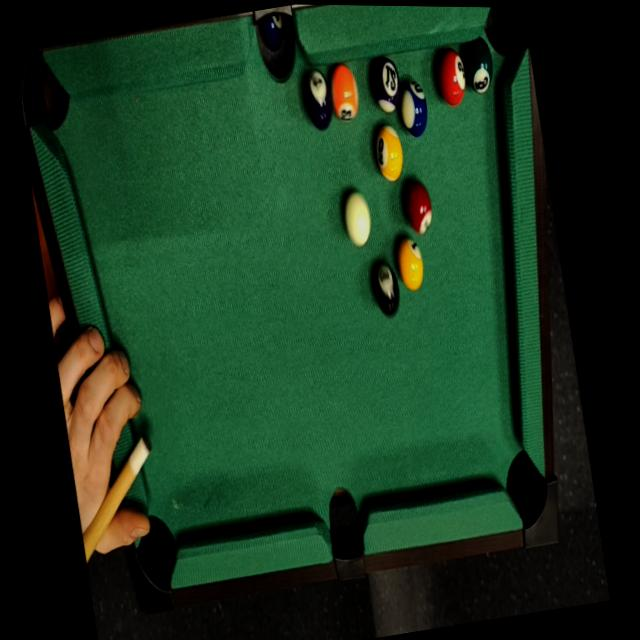cue ball: (336, 186, 378, 249)
other: (429, 41, 474, 114), (367, 117, 409, 188), (395, 173, 438, 242), (363, 49, 407, 115), (324, 60, 366, 127), (395, 75, 434, 147), (390, 230, 430, 296), (459, 33, 499, 99), (365, 255, 405, 320), (300, 63, 336, 128)
